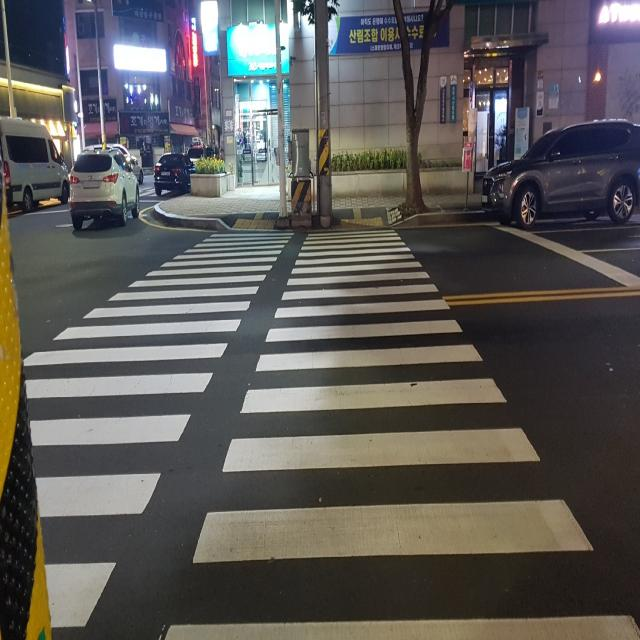횡단보도: (17, 222, 639, 640)
